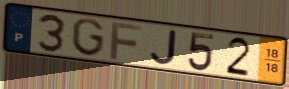2: (225, 37, 254, 79)
3: (34, 12, 67, 54)
5: (186, 31, 217, 72)
F: (108, 20, 145, 62)
G: (70, 17, 106, 58)
J: (149, 28, 179, 66)
